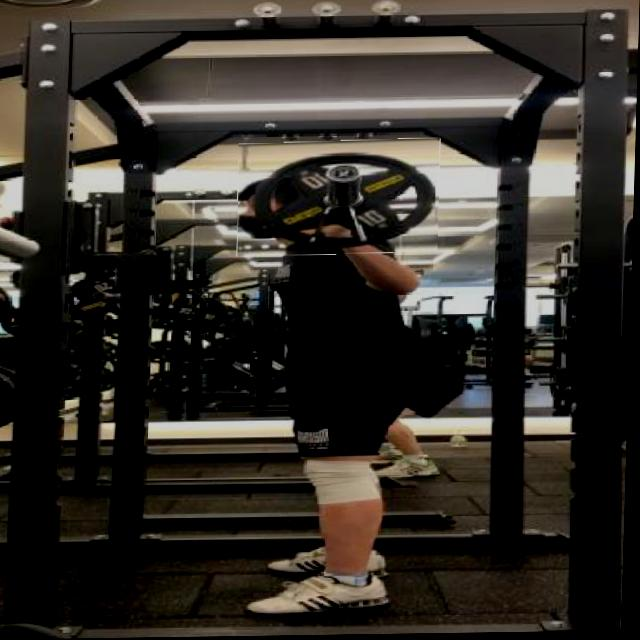barbell: (239, 141, 443, 258)
